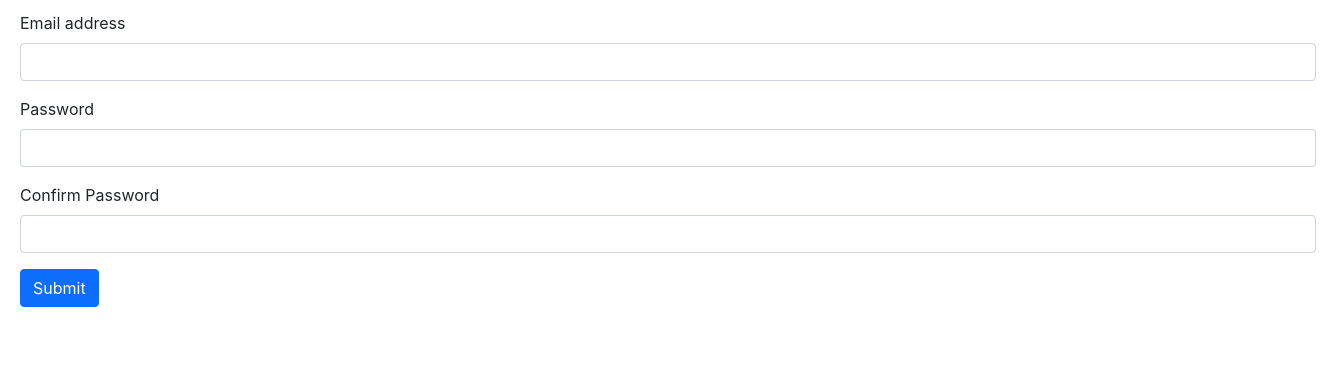
App › Error Handling › should show password error message if password is less than 5 characters
Type "abc@gmail.com" into the field labelled "Email address".
click(668, 62); type("abc@gmail.com")  # box [20, 43, 1316, 81]
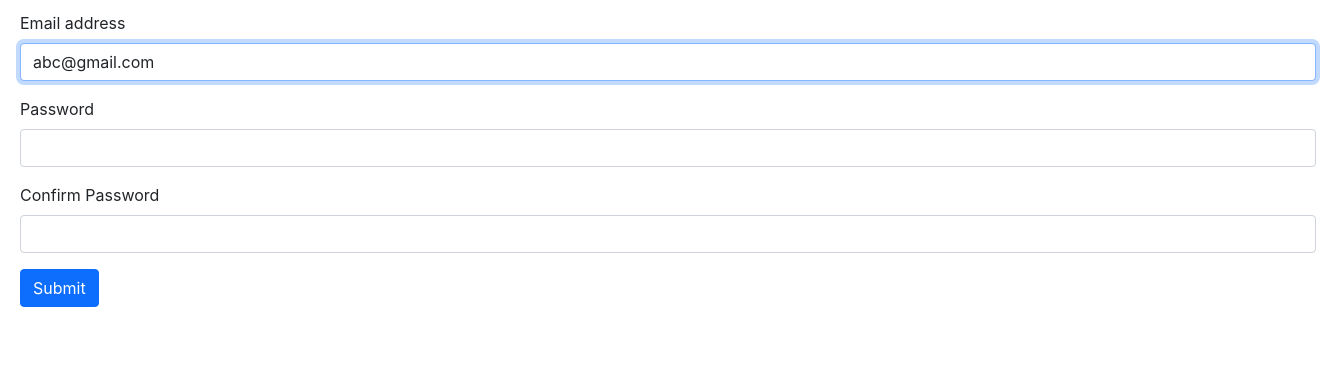
Check: the text "The password you entered should contain 5 or more characters." is not shown
Type "123" into the password field labelled "Password".
click(668, 148); type("123")  # box [20, 129, 1316, 167]
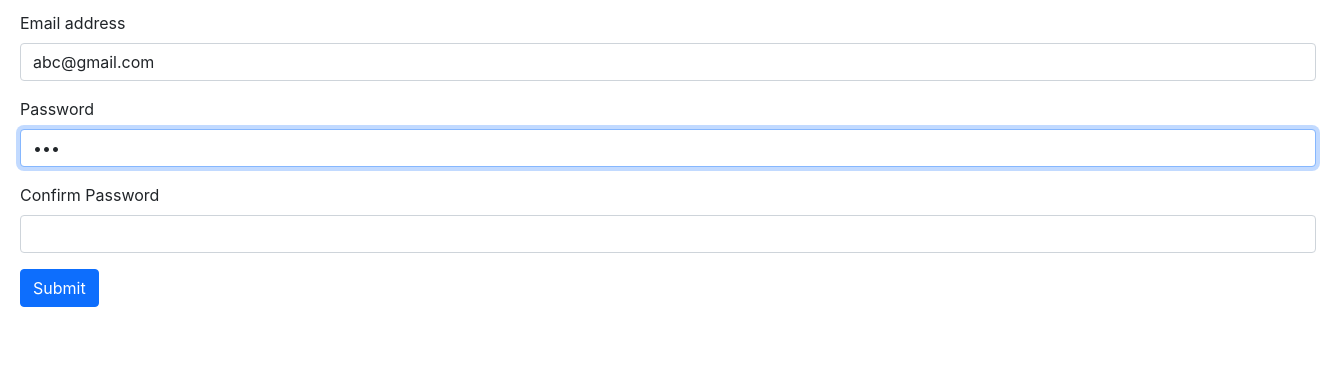
Click the button "Submit".
click(59, 288)  # box [20, 269, 99, 307]
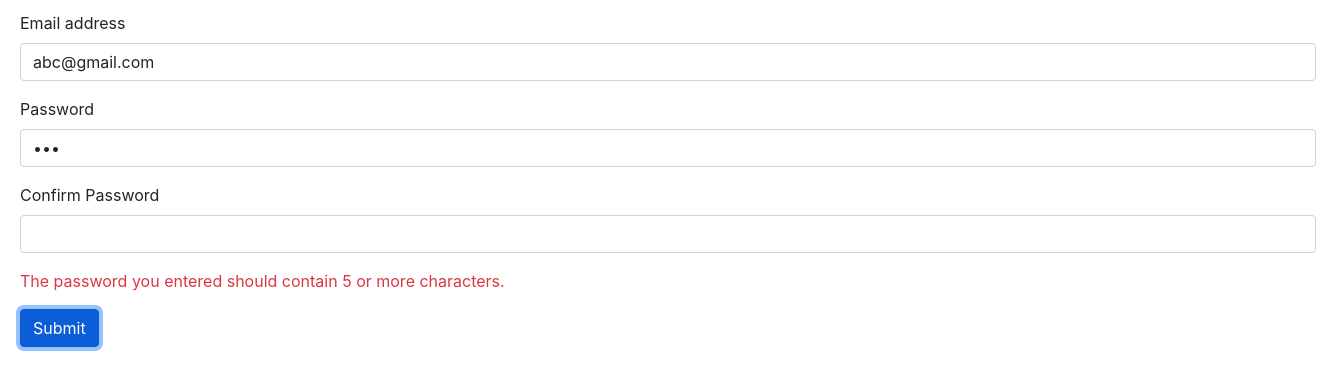
Check: the text "The password you entered should contain 5 or more characters." is shown, box [20, 271, 505, 291]
